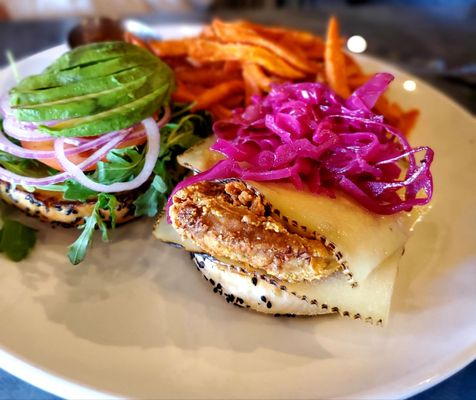soup: (152, 20, 448, 326), (0, 31, 175, 261)
